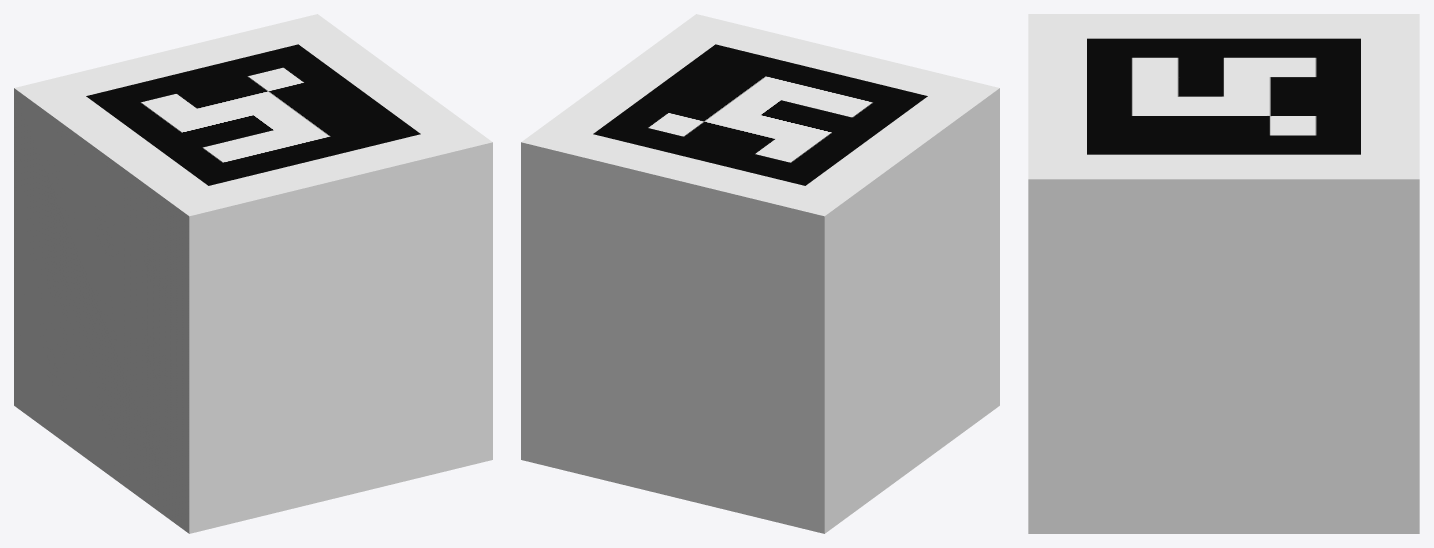
File: pami.obj
The picture shows the model from 3 angles, left to right: view 1: azimuth 30°, elevation 25°; view 2: azimuth 150°, elevation 25°; view 3: azimuth 270°, elevation 25°; orthographic projection. The views are drawn at different scales.
Visible parts, largest first — view 1: pami; view 2: pami; view 3: pami.
Boxes of the visible parts, x1=… form: pami: x1=14, y1=14, x2=492, y2=533; pami: x1=521, y1=14, x2=999, y2=533; pami: x1=1028, y1=14, x2=1419, y2=533.
Bounding box in the file's own units: 0.1 × 0.1 × 0.1.
Materials: 1 (1 with a texture image).
